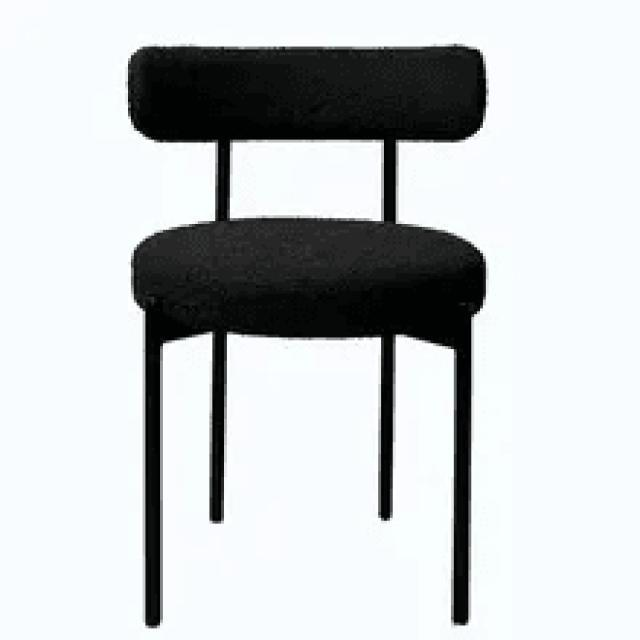chair: (123, 41, 491, 631), (131, 35, 491, 334)
